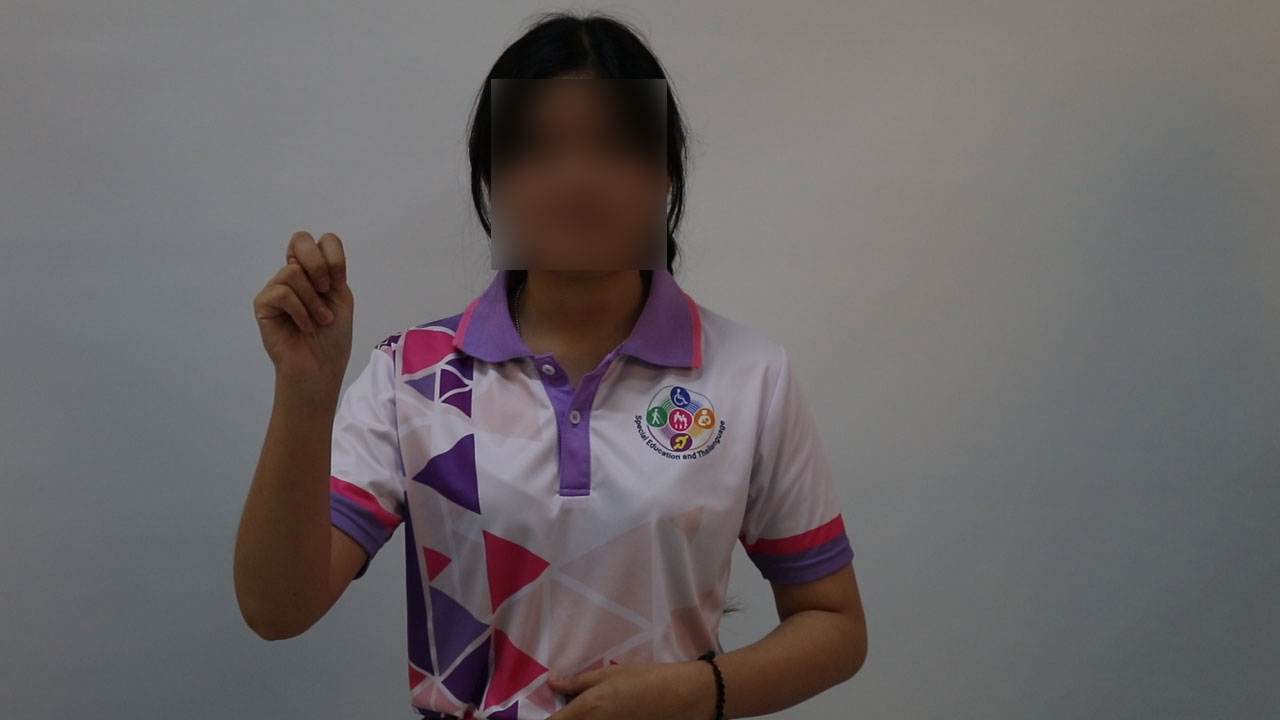nor: (251, 225, 364, 397)
